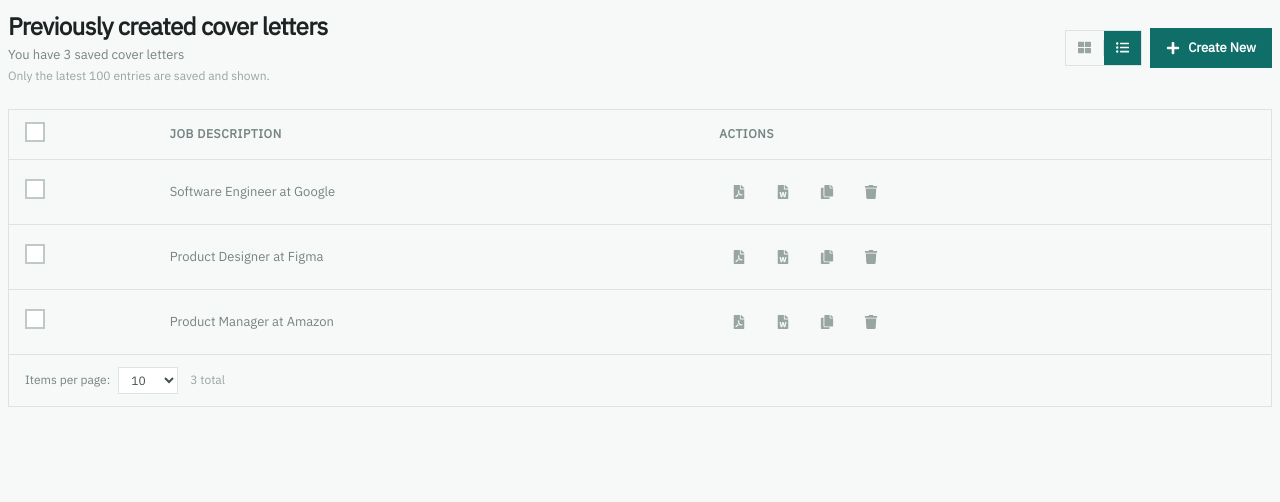
PreviousCoverLettersView — integration › selects all when header checkbox is clicked
This screenshot has width=1280, height=502.
Expected: the text "Software Engineer at Google" is shown, [170,183,335,200]
Click the checkbox next to "Job Description" at [35, 132], box [25,122,45,142]
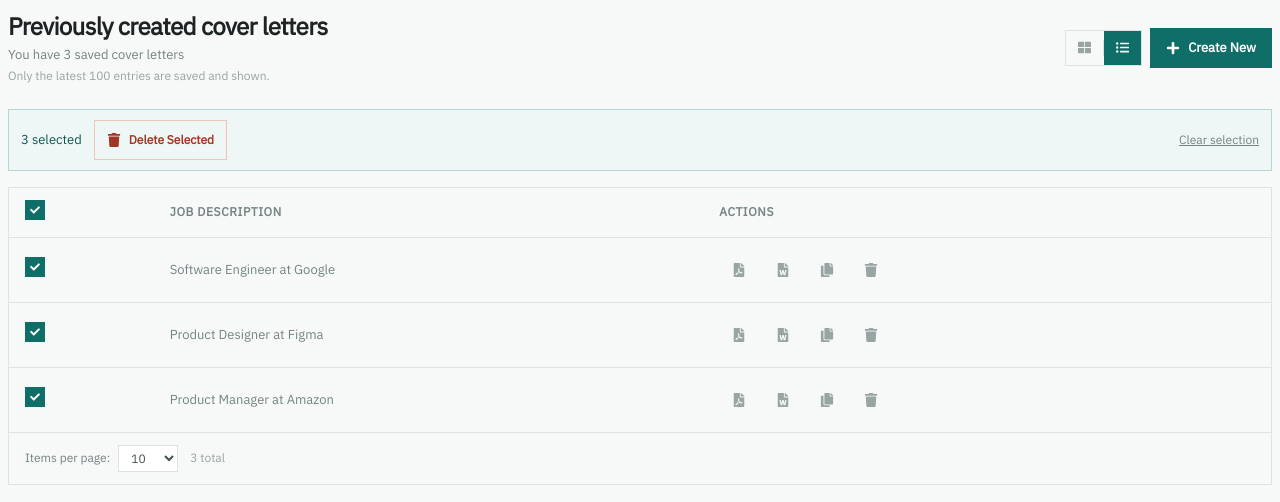
Now the text "3 selected" is shown, box [21,130,82,149]
